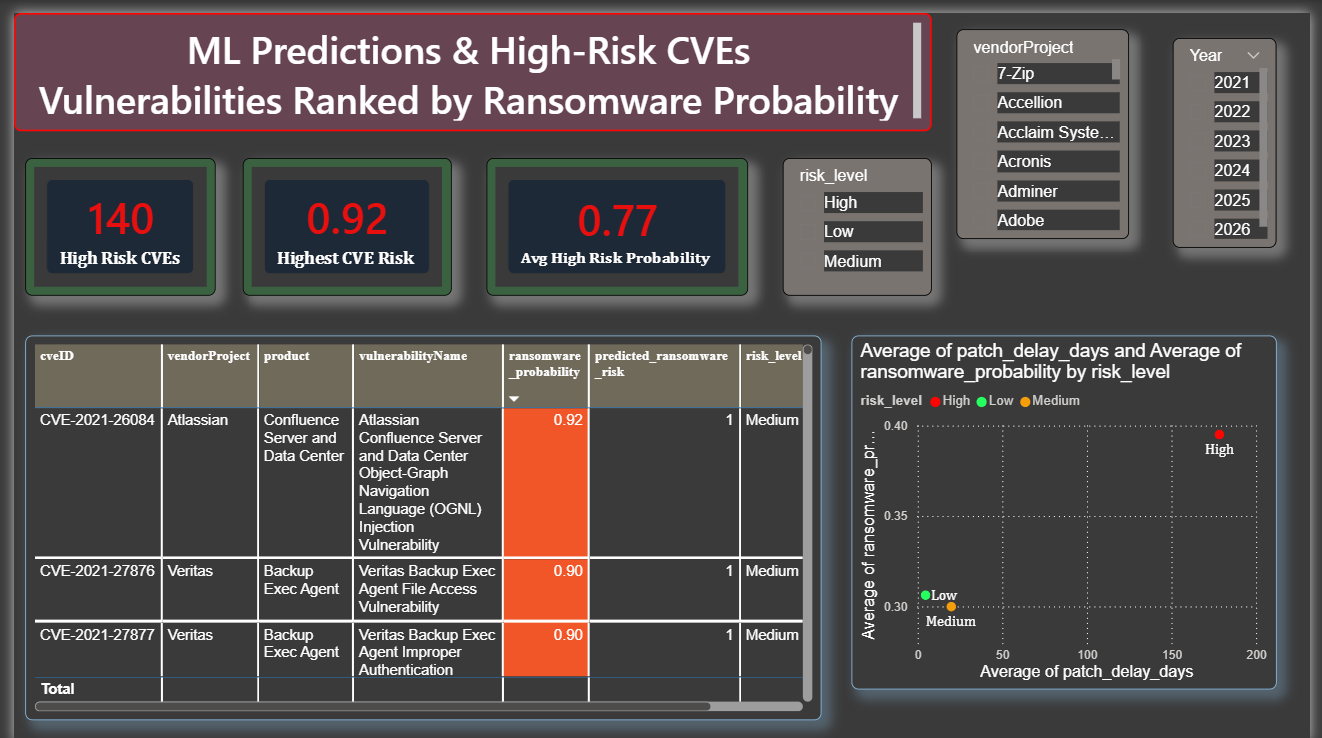

Layout of this report page (visuals, bound fields, positions):
{"tool":"powerbi","page":{"name":"ML Predictions & High-Risk CVEs","canvas":[1280,720],"ordinal":2},"visuals":[{"type":"textbox","box":[0,0,906,117],"z":0},{"type":"tableEx","fields":{"Values":["powerbi_main.cveID","powerbi_main.vendorProject","powerbi_main.product","powerbi_main.vulnerabilityName","powerbi_main.ransomware_probability","powerbi_main.predicted_ransomware_risk","powerbi_main.risk_level","powerbi_main.dateAdded.Variation.Date Hierarchy.Year","powerbi_main.patch_delay_days"]},"box":[10.9,318.5,786.6,380],"z":1000},{"type":"cardVisual","fields":{"Data":["powerbi_main.High Risk CVEs"]},"box":[10.9,143.6,188.2,136.3],"z":2000},{"type":"cardVisual","fields":{"Data":["powerbi_main.Highest CVE Risk"]},"box":[225.6,143.6,206.3,136.3],"z":3000},{"type":"cardVisual","fields":{"Data":["powerbi_main.Avg High Risk Probability"]},"box":[466.9,143.6,258.2,136.3],"z":4000},{"type":"scatterChart","fields":{"X":["Avg(powerbi_main.patch_delay_days)"],"Y":["Avg(powerbi_main.ransomware_probability)"],"Series":["powerbi_main.risk_level"]},"box":[827.6,318.5,419.8,349.9],"z":5000},{"type":"slicer","fields":{"Values":["powerbi_main.vendorProject"]},"box":[931.4,15.7,170.1,207.5],"z":6000},{"type":"slicer","fields":{"Values":["powerbi_main.risk_level"]},"box":[758.9,143.6,147.2,136.3],"z":7000},{"type":"slicer","fields":{"Values":["powerbi_main.dateAdded.Variation.Date Hierarchy.Year"]},"box":[1144.9,24.1,102.5,207.5],"z":8000}]}

Visuals, with their boxes in screenshot pixels (x1, y1, x2, y2), scaled from the page's 1280x720 canvas onto the 1322x738 screenshot:
textbox: <region>0, 0, 936, 120</region>
tableEx - powerbi_main.cveID x powerbi_main.vendorProject: <region>11, 326, 824, 716</region>
cardVisual - powerbi_main.High Risk CVEs: <region>11, 147, 206, 287</region>
cardVisual - powerbi_main.Highest CVE Risk: <region>233, 147, 446, 287</region>
cardVisual - powerbi_main.Avg High Risk Probability: <region>482, 147, 749, 287</region>
scatterChart - Avg(powerbi_main.patch_delay_days) x Avg(powerbi_main.ransomware_probability): <region>855, 326, 1288, 685</region>
slicer - powerbi_main.vendorProject: <region>962, 16, 1138, 229</region>
slicer - powerbi_main.risk_level: <region>784, 147, 936, 287</region>
slicer - powerbi_main.dateAdded.Variation.Date Hierarchy.Year: <region>1182, 25, 1288, 237</region>
